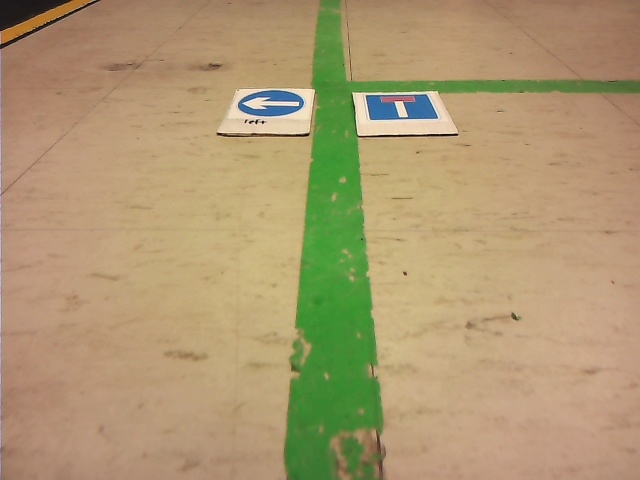DEAD END: (365, 93, 438, 120)
TURN LEFT: (239, 90, 304, 116)
